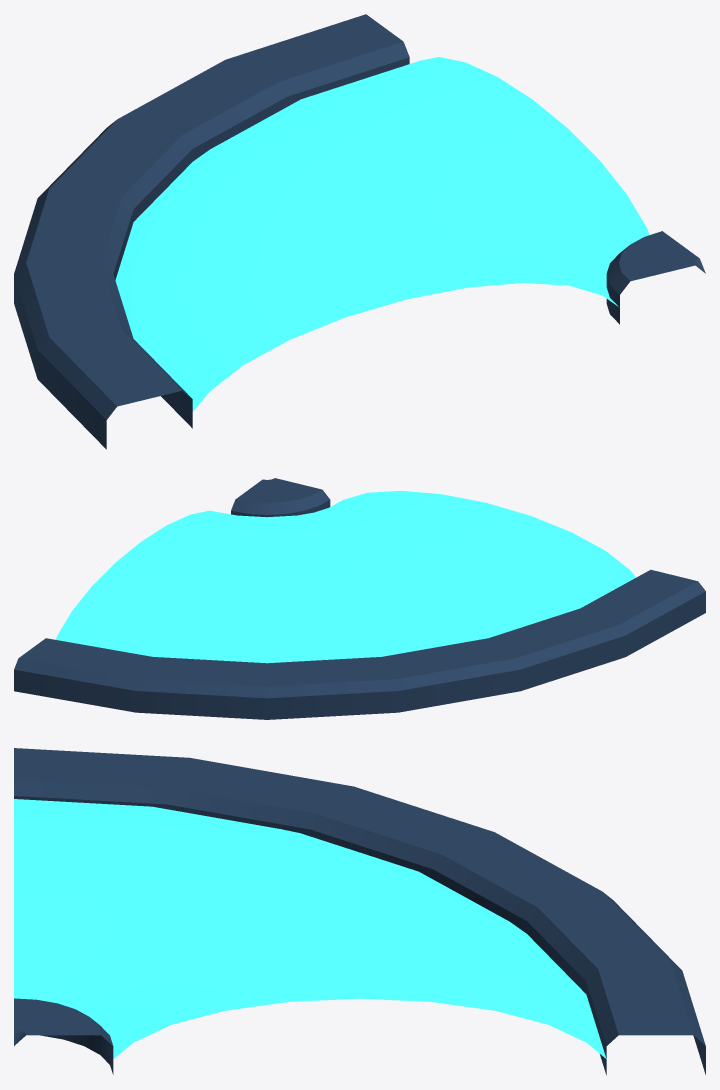
File: Light_Trim_01_RoundShortCorner.fbx
3 views of the same model, one above another, from view 1: azimuth 30°, elevation 25°; view 2: azimuth 150°, elevation 25°; view 3: azimuth 270°, elevation 25° (orthographic). The views are drawn at different scales.
Parts seen in each view (by area): view 1: Light_Trim_01_RoundShortCorner.001; view 2: Light_Trim_01_RoundShortCorner.001; view 3: Light_Trim_01_RoundShortCorner.001.
Part boxes in pixels (x1,y1,x2,y2): Light_Trim_01_RoundShortCorner.001: (14, 14, 705, 449); Light_Trim_01_RoundShortCorner.001: (14, 478, 705, 719); Light_Trim_01_RoundShortCorner.001: (14, 748, 705, 1075).
Bounding box in the file's own units: 0.1 × 0.0123 × 0.1.
